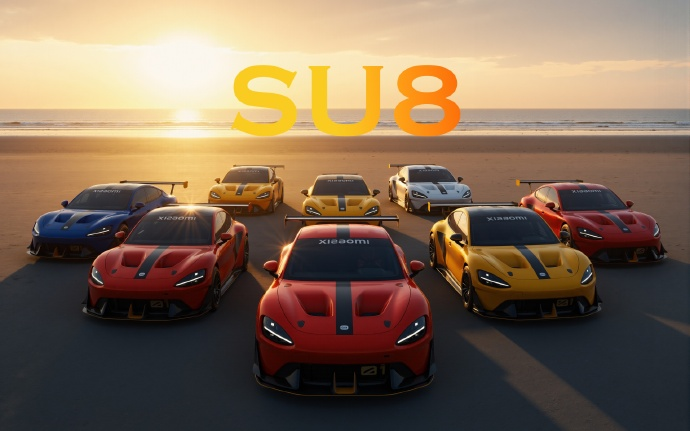su7: (261, 208, 437, 398), (86, 200, 249, 328), (425, 201, 600, 316), (505, 172, 668, 267), (26, 182, 188, 260), (384, 161, 477, 210), (208, 161, 289, 212), (303, 175, 377, 223)
